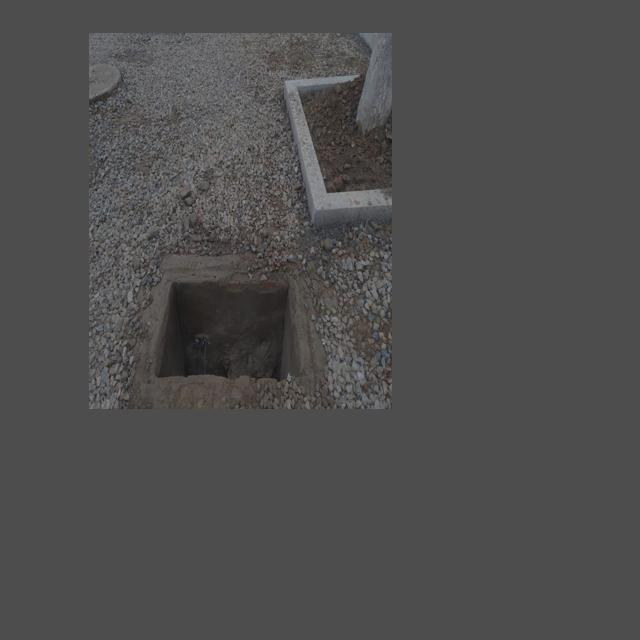lose: (150, 264, 305, 386)
